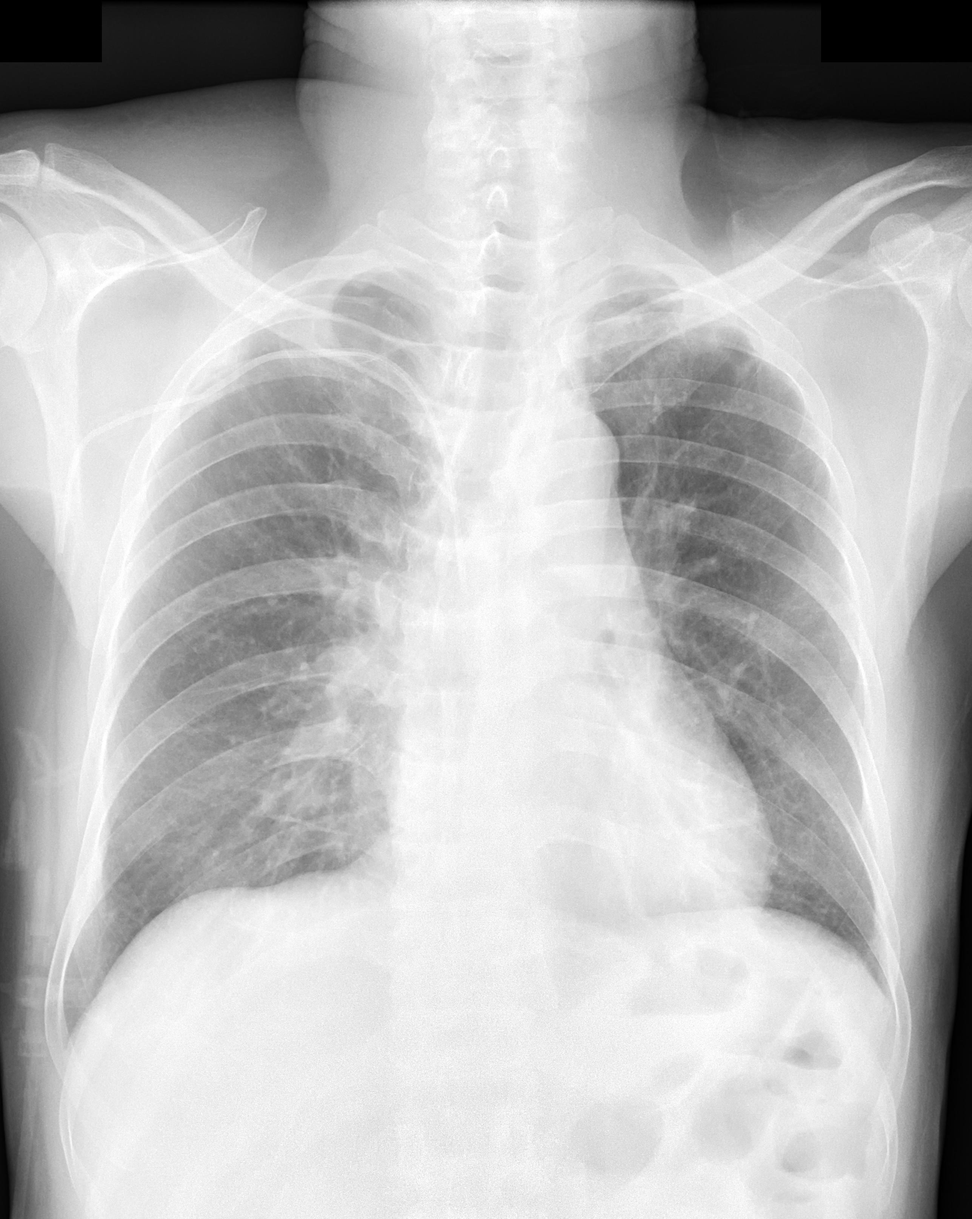Aortic enlargement: (495, 400, 621, 526)
Pleural thickening: (594, 279, 695, 309), (285, 279, 371, 292)
